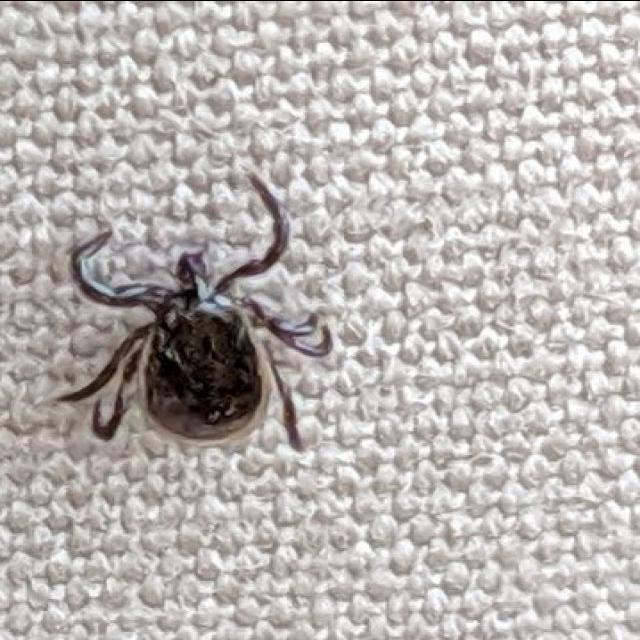Ixodes Ricinus-M: (64, 177, 335, 450)
